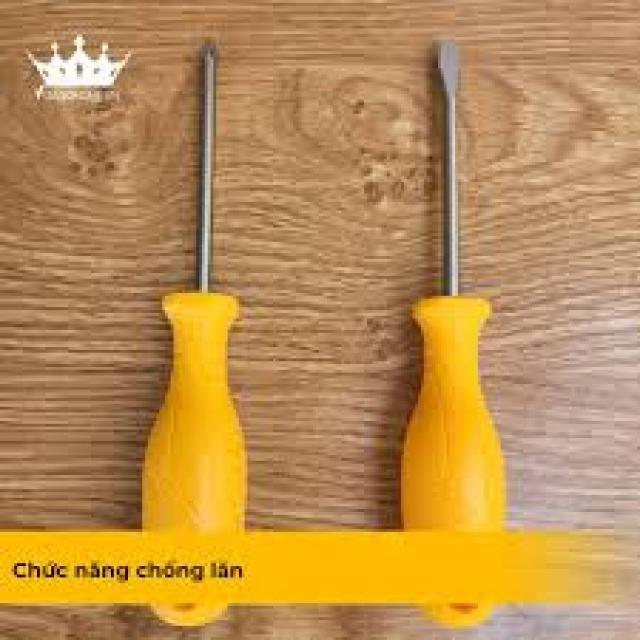screwdriver: (135, 43, 249, 632), (404, 36, 509, 634)
